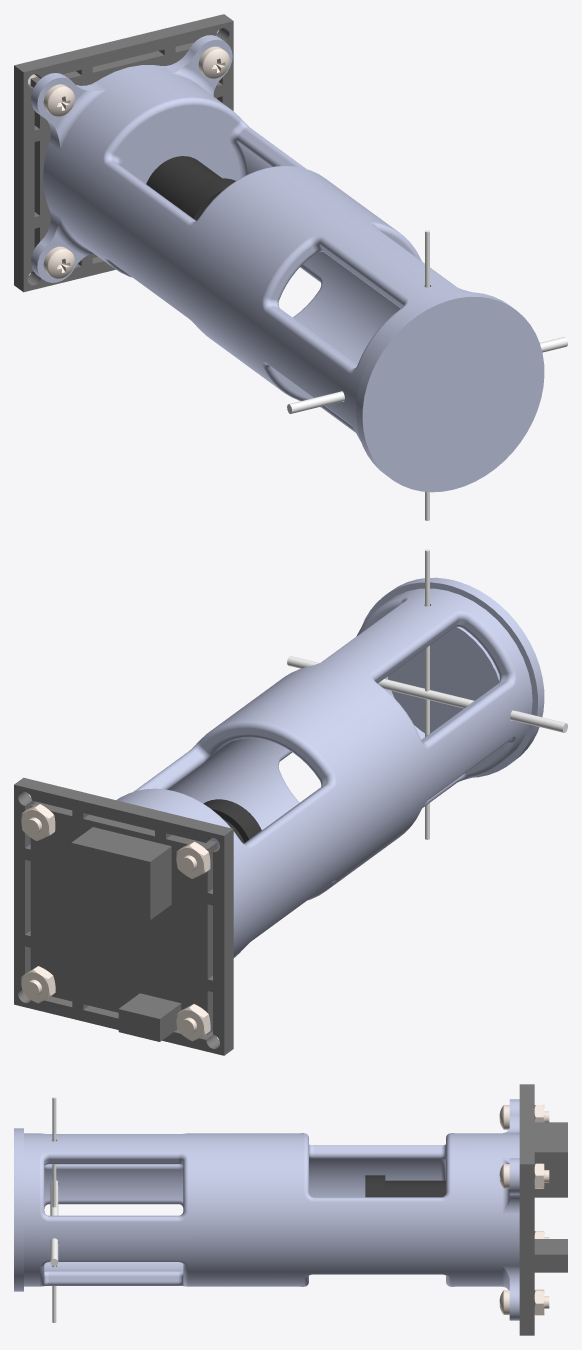
The model's file is CV_Camera_Fixture.glb.
3 renders of one model, top to bottom at view 1: azimuth 30°, elevation 25°; view 2: azimuth 150°, elevation 25°; view 3: azimuth 270°, elevation 25°, orthographic. The views are drawn at different scales.
Parts seen in each view (by area): view 1: tube v3-1, endcap-1, camera-1, 20degLens-1, tubingL-1, pan cross head_am-9, pan cross head_am-11, pan cross head_am-8; view 2: tube v3-1, camera-1, endcap-1, tubingL-1, 20degLens-1, tubing_S-1, hex nut style 1_am-3, hex nut style 1_am-2, hex nut style 1_am-5, hex nut style 1_am-4; view 3: tube v3-1, camera-1, endcap-1, 20degLens-1, tubing_S-1, tubingL-1.
Part boxes in pixels (x1=…): tube v3-1: x1=31, y1=35, x2=471, y2=442; endcap-1: x1=356, y1=292, x2=544, y2=492; camera-1: x1=14, y1=14, x2=233, y2=292; 20degLens-1: x1=146, y1=156, x2=235, y2=220; tubingL-1: x1=287, y1=337, x2=567, y2=413; pan cross head_am-9: x1=43, y1=84, x2=74, y2=116; pan cross head_am-11: x1=43, y1=246, x2=74, y2=278; pan cross head_am-8: x1=198, y1=46, x2=229, y2=78; tube v3-1: x1=34, y1=588, x2=532, y2=1032; camera-1: x1=14, y1=777, x2=233, y2=1055; endcap-1: x1=362, y1=577, x2=544, y2=777; tubingL-1: x1=287, y1=656, x2=567, y2=732; 20degLens-1: x1=203, y1=799, x2=261, y2=843; tubing_S-1: x1=425, y1=549, x2=429, y2=839; hex nut style 1_am-3: x1=21, y1=804, x2=55, y2=840; hex nut style 1_am-2: x1=176, y1=841, x2=210, y2=878; hex nut style 1_am-5: x1=176, y1=1004, x2=210, y2=1041; hex nut style 1_am-4: x1=21, y1=966, x2=55, y2=1003; tube v3-1: x1=24, y1=1099, x2=519, y2=1320; camera-1: x1=519, y1=1084, x2=567, y2=1335; endcap-1: x1=14, y1=1128, x2=23, y2=1291; 20degLens-1: x1=365, y1=1175, x2=445, y2=1197; tubing_S-1: x1=52, y1=1097, x2=56, y2=1322; tubingL-1: x1=50, y1=1180, x2=58, y2=1265.
Size of the model in its own units: 0.05 by 0.05 by 0.1117.
